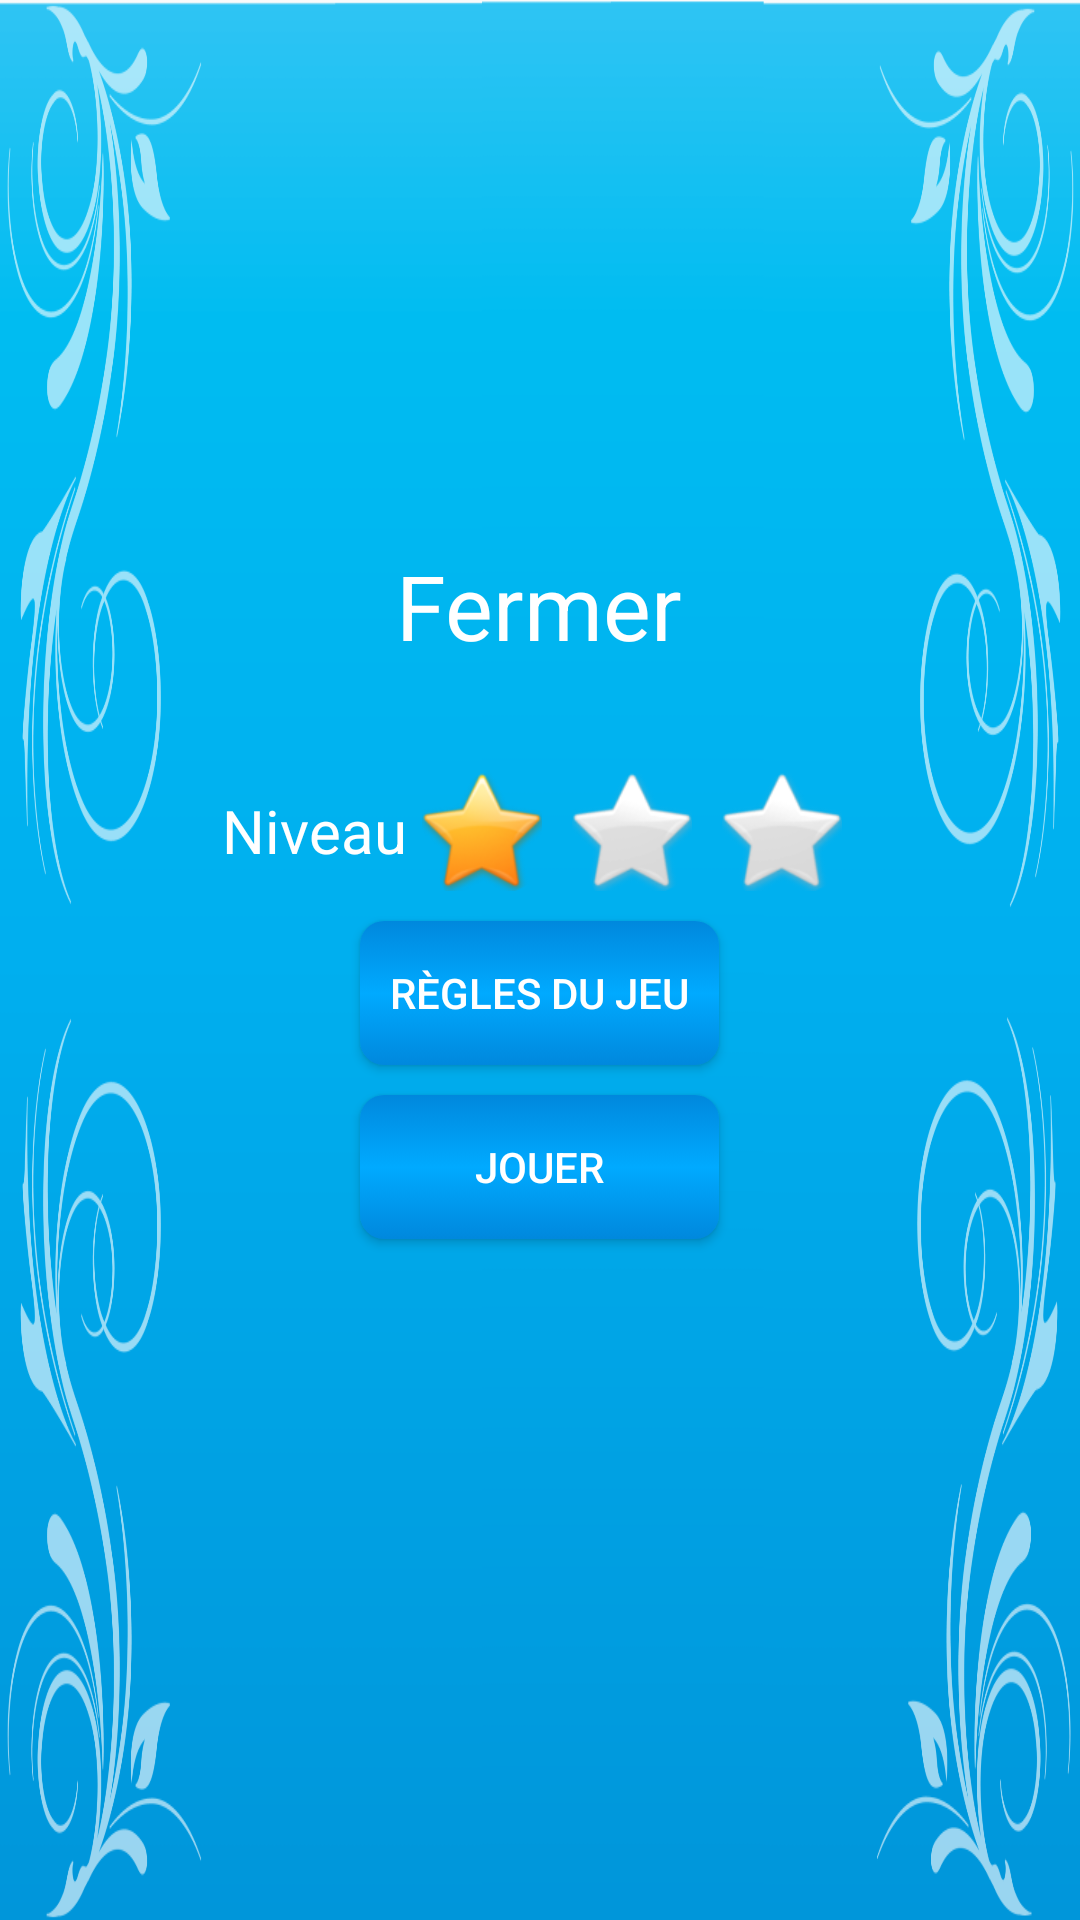

Icon click points for this 1080px×1920px phone screenshot, format (x,y):
etoile non: (632,832), (782,832)
etoile oui: (482,832)
